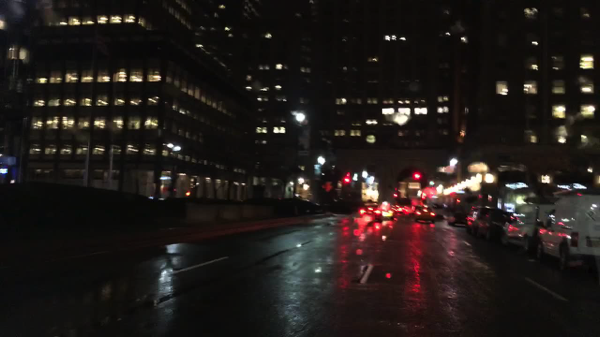car: (532, 190, 599, 270), (505, 196, 553, 252), (472, 206, 512, 241), (289, 197, 325, 216), (465, 204, 487, 235), (355, 206, 382, 221), (413, 205, 435, 223), (392, 203, 411, 217), (381, 200, 391, 218)
traffic light: (413, 172, 421, 182), (345, 173, 347, 186), (393, 193, 396, 201)
truck: (442, 191, 483, 226)
